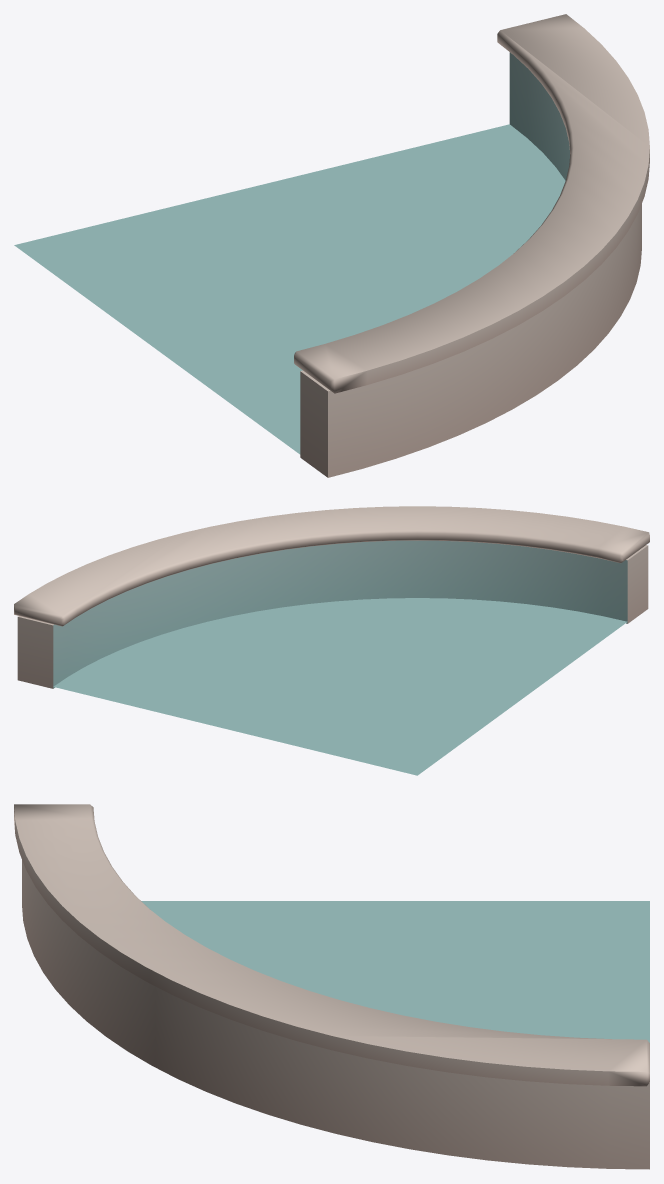
File: pool-corner-round-large.glb
3 views of the same model, one above another, from view 1: azimuth 30°, elevation 25°; view 2: azimuth 150°, elevation 25°; view 3: azimuth 270°, elevation 25° (orthographic). The views are drawn at different scales.
Visible parts, largest first — view 1: pool-corner-round-large; view 2: pool-corner-round-large; view 3: pool-corner-round-large.
Part boxes in pixels (box(x1,y1,x2,y2)): pool-corner-round-large: box(14, 14, 649, 477); pool-corner-round-large: box(14, 506, 649, 775); pool-corner-round-large: box(14, 804, 649, 1169).
Size of the model in its own units: 2 by 0.35 by 2.
